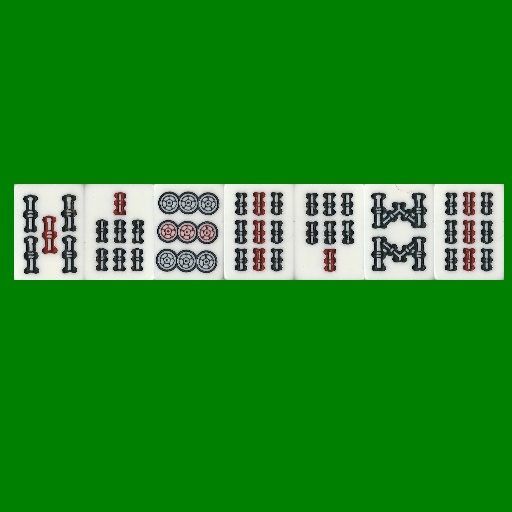5s: (14, 184, 84, 280)
7s: (84, 184, 154, 280), (294, 184, 364, 280)
8s: (364, 184, 434, 280)
9p: (154, 184, 224, 280)
9s: (224, 184, 294, 280), (434, 184, 504, 280)
